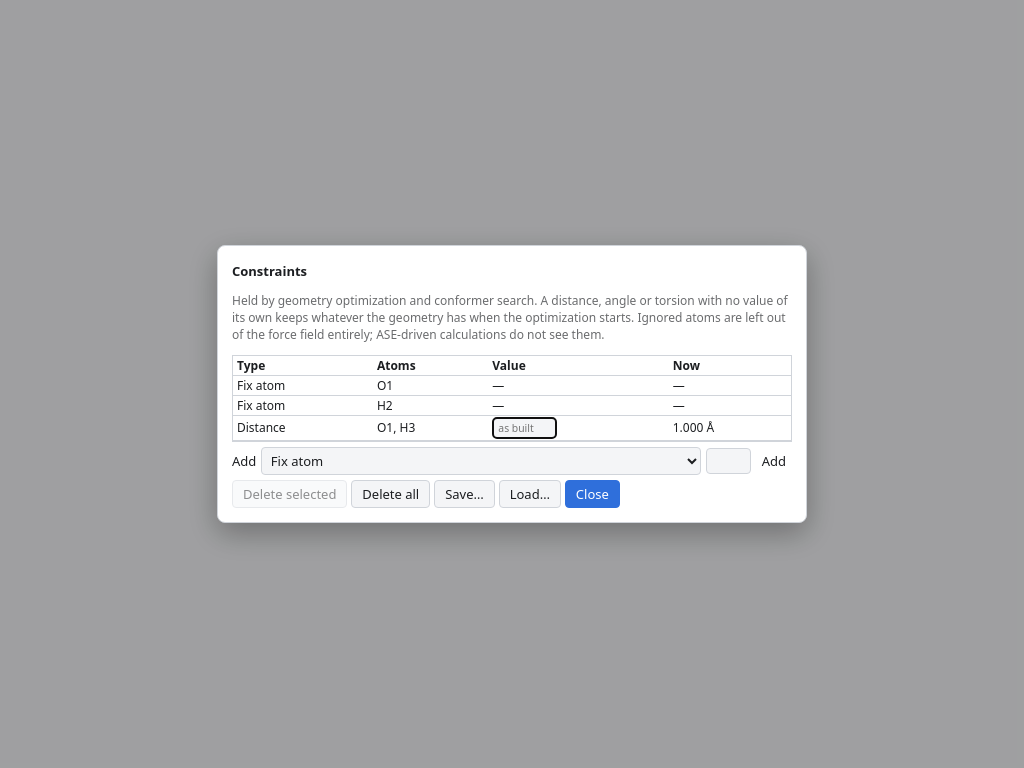
it: a row is selected by clicking it and deleted, and Delete all clears the table
Expected: the number of rows is 4, [233,356,791,375]; [233,375,791,395]; [233,395,791,415]; [233,415,791,440]
Click the text "H2".
click(431, 405)  # box [373,395,488,415]
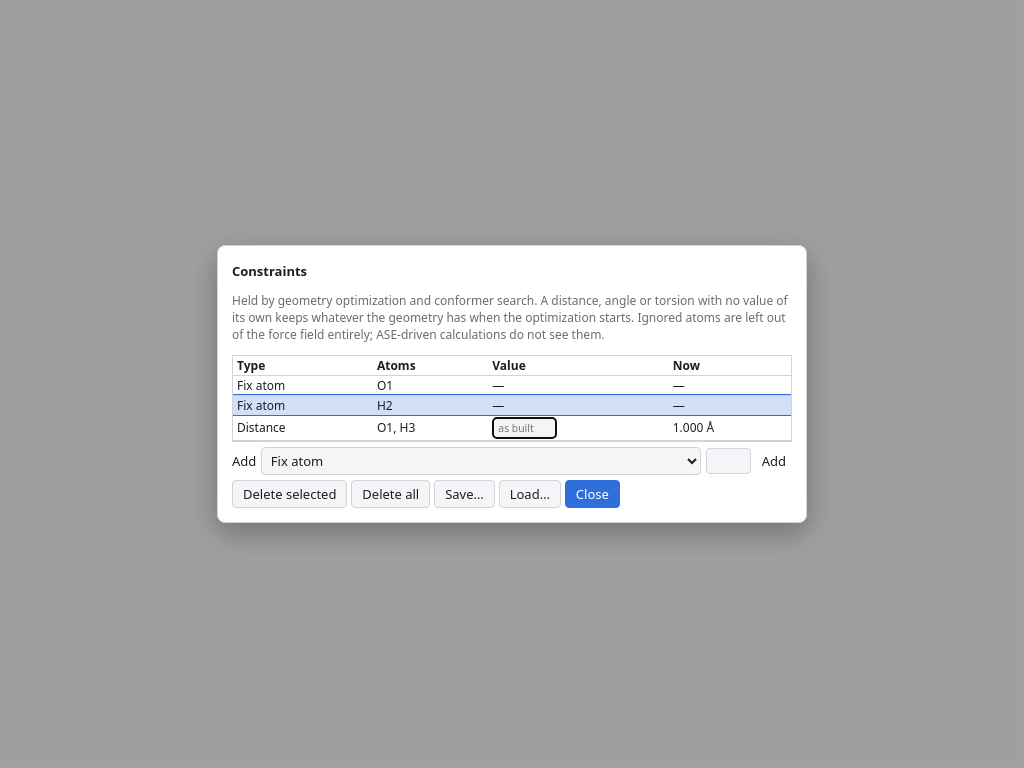
Click the button "Delete selected".
click(290, 494)  # box [232,480,347,508]
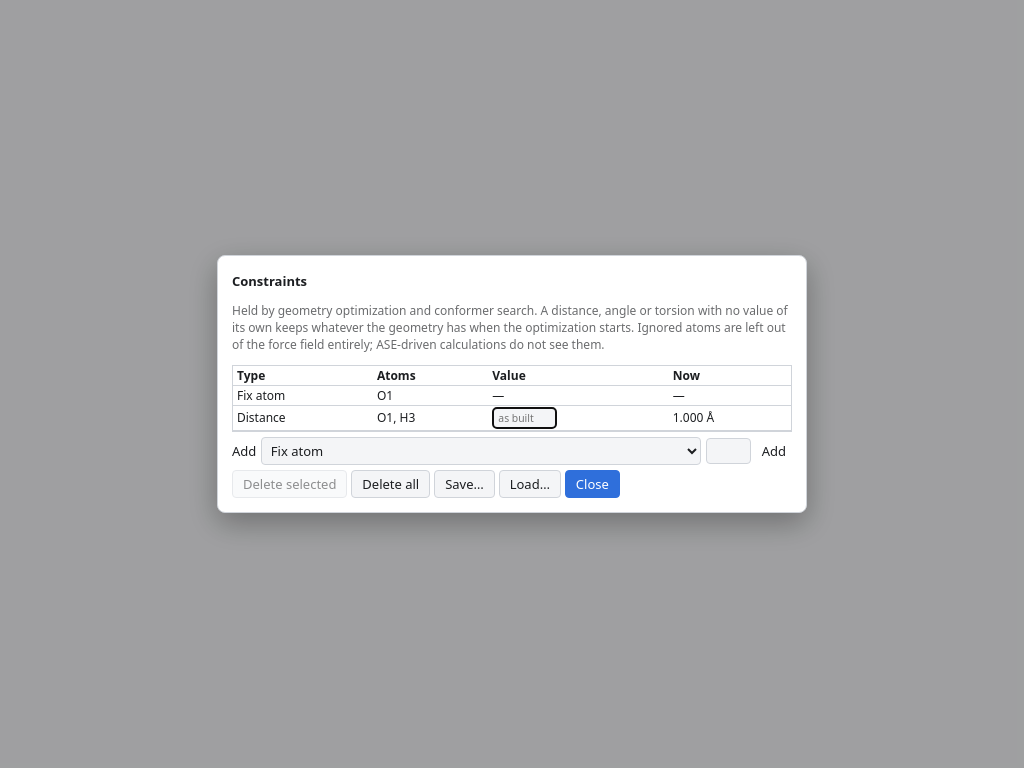
Click the button "Delete all".
click(391, 484)  # box [351,470,430,498]
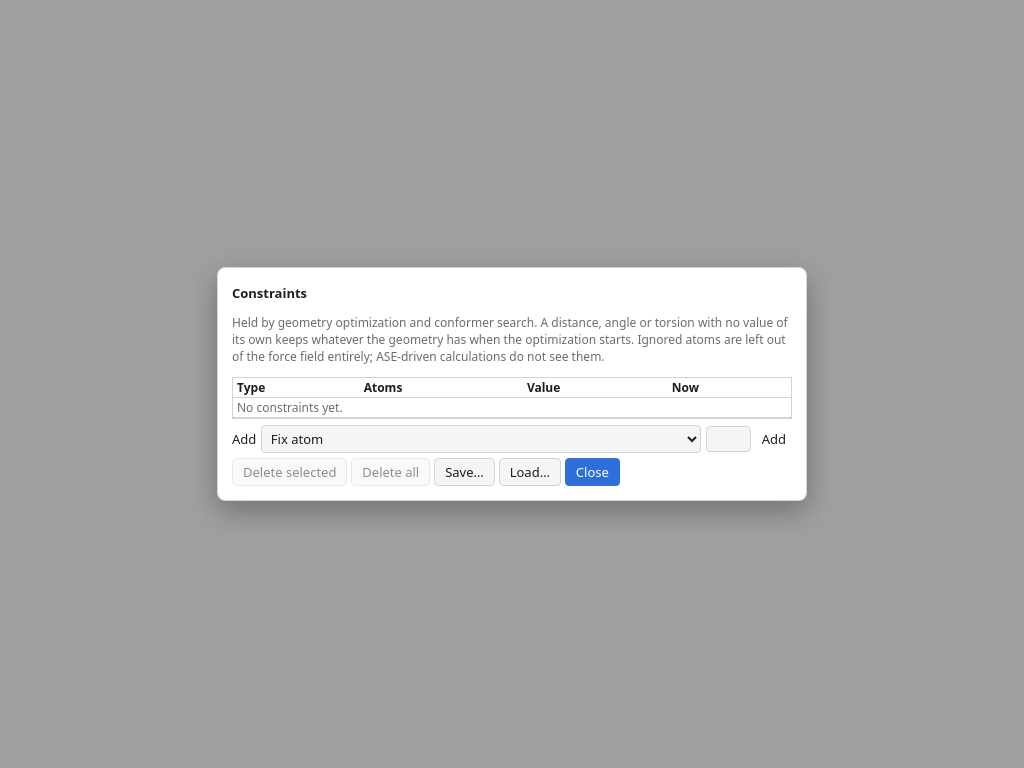
Expected: the text "No constraints yet." is shown, [233,398,791,418]
